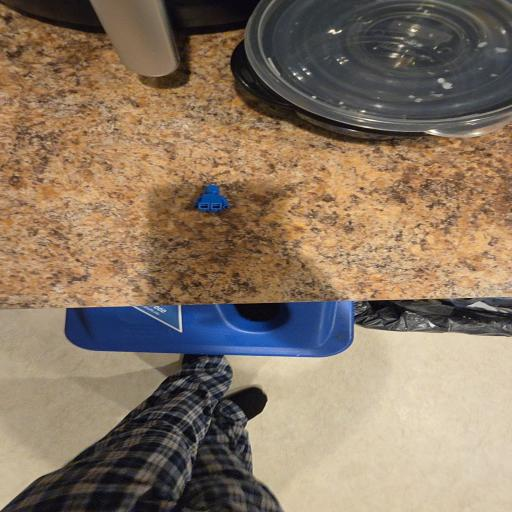Blue: (194, 185, 229, 212)
